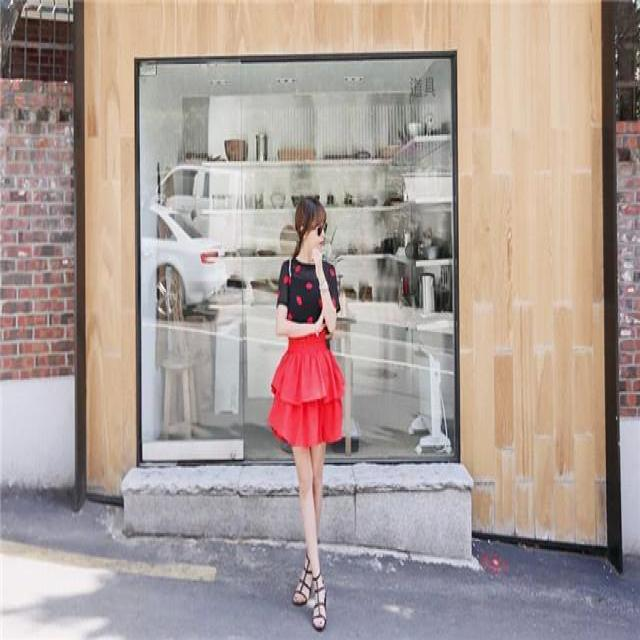short-sleeve-dress: (272, 248, 348, 340)
skirt: (272, 348, 351, 452)
